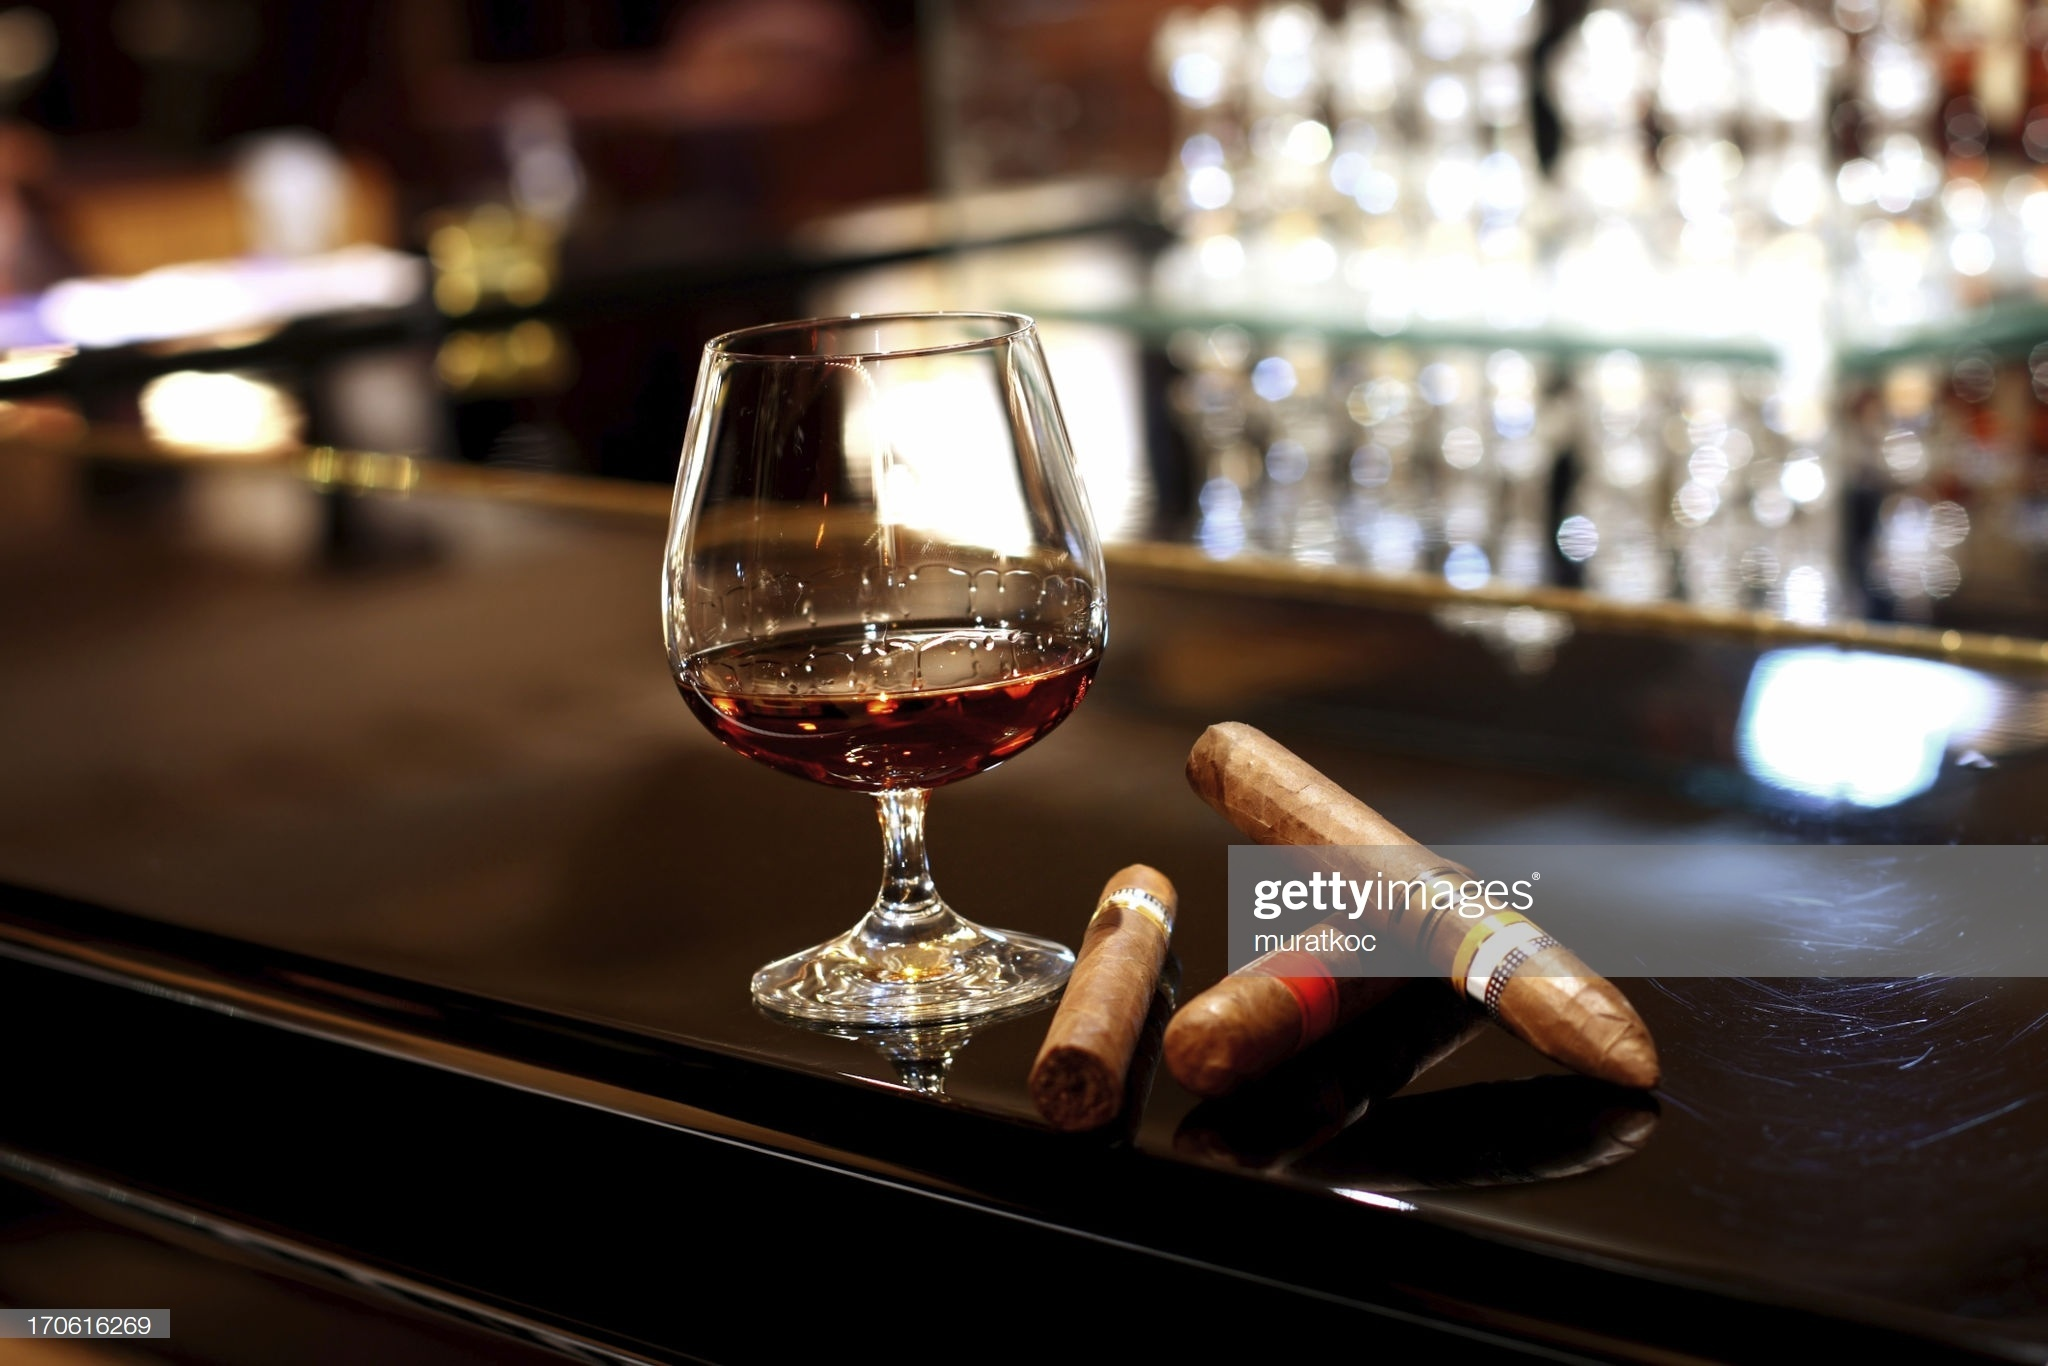whiskey: (693, 290, 1099, 1031)
